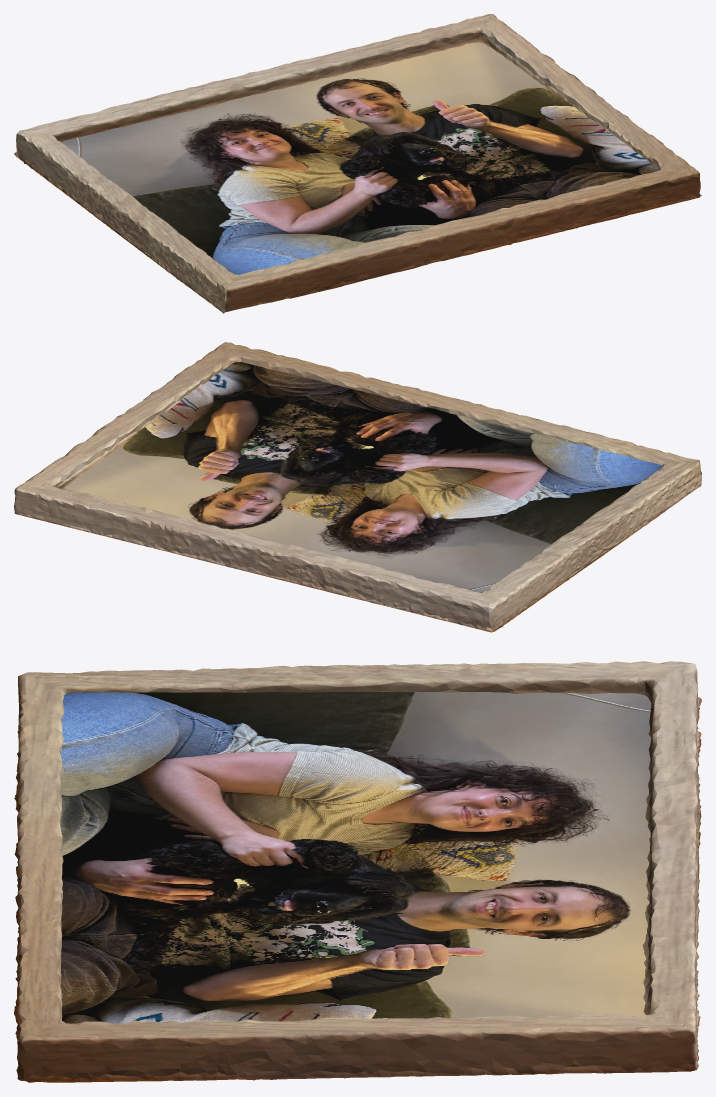
The model's file is CadreCanape.fbx.
The picture shows the model from 3 angles, top to bottom: view 1: azimuth 30°, elevation 25°; view 2: azimuth 150°, elevation 25°; view 3: azimuth 270°, elevation 25°; orthographic projection. The views are drawn at different scales.
Parts seen in each view (by area): view 1: Cadre; view 2: Cadre; view 3: Cadre.
Boxes of the visible parts, <box> form: Cadre: <box>14,14,701,313</box>; Cadre: <box>14,342,701,632</box>; Cadre: <box>14,661,701,1082</box>.
Size of the model in its own units: 84.4 by 5.7 by 64.93.
Materials: 2 (2 with a texture image).
